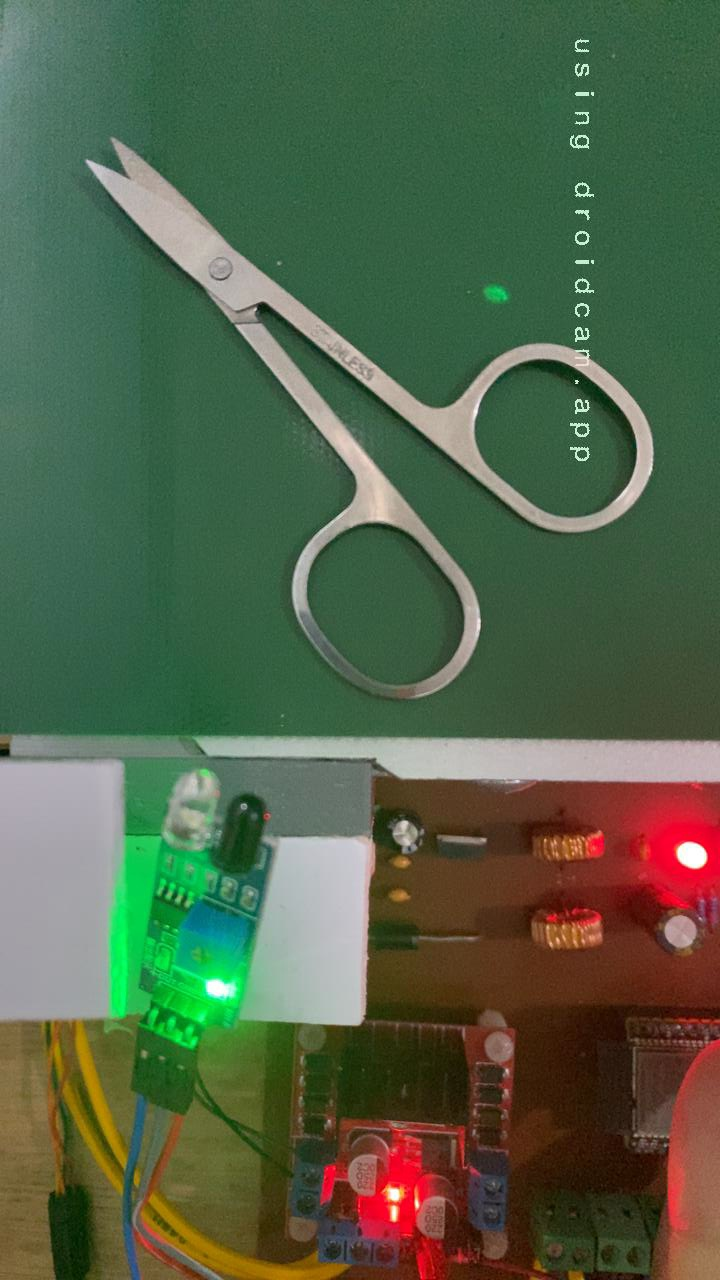scissor: (79, 131, 663, 708)
